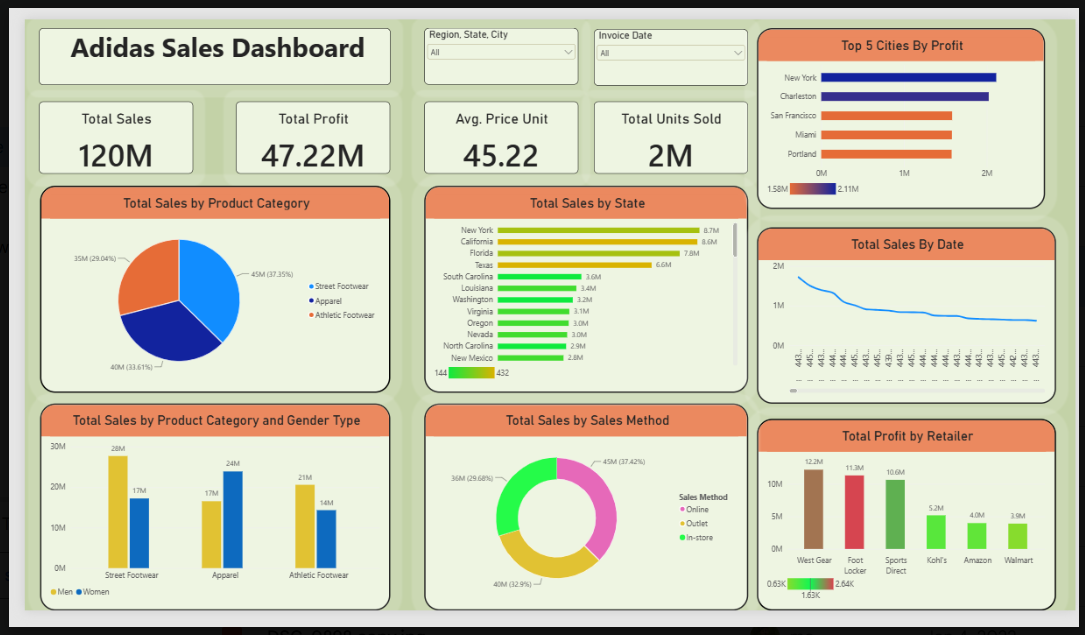

The page's visual inventory and layout, read from the dashboard file:
{"tool":"powerbi","page":{"name":"Page 1","canvas":[1920,1080],"ordinal":0},"visuals":[{"type":"textbox","box":[26,16,642,104],"z":0},{"type":"cardVisual","title":"Total Sales","fields":{"Data":["Sum(Sales_details.Total Sales)"]},"box":[26.8,150.3,282,131.7],"z":1000},{"type":"cardVisual","title":"Total Profit","fields":{"Data":["Sum(Sales_details.Operating Profit)"]},"box":[387,150.3,282,131.7],"z":2000},{"type":"cardVisual","title":"Avg. Price Unit","fields":{"Data":["Avg(Sales_details.Price per Unit)"]},"box":[730.7,150.3,282,131.7],"z":3000},{"type":"cardVisual","title":"Total Units Sold","fields":{"Data":["Sum(Sales_details.Units Sold)"]},"box":[1040,150,282,131.7],"z":4000},{"type":"slicer","fields":{"Values":["Sales_details.Region","Sales_details.State","Sales_details.City"]},"box":[730.7,16.5,282,102.9],"z":5000},{"type":"slicer","fields":{"Values":["Sales_details.Invoice Date"]},"box":[1040,17.1,282,102.9],"z":6000},{"type":"clusteredColumnChart","title":"Total Profit by Retailer","fields":{"Category":["Sales_details.Retailer"],"Y":["Sum(Sales_details.Operating Profit)"]},"box":[1338,730,546,350],"z":6001},{"type":"pieChart","title":"Total Sales by Product Category","fields":{"Y":["Sum(Sales_details.Total Sales)"],"Category":["Sales_details.Product Category"]},"box":[28,304,640,378],"z":6002},{"type":"donutChart","title":"Total Sales by Sales Method","fields":{"Y":["Sum(Sales_details.Total Sales)"],"Category":["Sales_details.Sales Method"]},"box":[730,702,592,378],"z":6003},{"type":"clusteredColumnChart","title":"Total Sales by Product Category and Gender Type","fields":{"Y":["Sum(Sales_details.Total Sales)"],"Category":["Sales_details.Product Category"],"Series":["Sales_details.Gender Type"]},"box":[28,702,640,378],"z":6004},{"type":"clusteredBarChart","title":"Total Sales by State","fields":{"Category":["Sales_details.State"],"Y":["Sum(Sales_details.Total Sales)"]},"box":[730,304,592,378],"z":6005},{"type":"lineChart","title":"Total Sales By Date","fields":{"Y":["Sum(Sales_details.Total Sales)"],"Category":["Sales_details.Invoice Date","Sales_details.Invoice Date Hierarchy.Invoice Date"]},"box":[1338,380,546,322],"z":6006},{"type":"clusteredBarChart","title":"Top 5 Cities By Profit","fields":{"Y":["Sum(Sales_details.Operating Profit)"],"Category":["Sales_details.City"]},"box":[1338,16,526,330],"z":6007}]}

Visuals, with their boxes in screenshot pixels (x1, y1, x2, y2):
textbox: bbox=[4, 6, 375, 67]
"Total Sales" cardVisual: bbox=[4, 84, 167, 160]
"Total Profit" cardVisual: bbox=[212, 84, 375, 160]
"Avg. Price Unit" cardVisual: bbox=[411, 84, 574, 160]
"Total Units Sold" cardVisual: bbox=[590, 84, 753, 160]
slicer - Sales_details.Region x Sales_details.State: bbox=[411, 7, 574, 66]
slicer - Sales_details.Invoice Date: bbox=[590, 7, 753, 67]
"Total Profit by Retailer" clusteredColumnChart: bbox=[762, 419, 1077, 621]
"Total Sales by Product Category" pieChart: bbox=[5, 173, 375, 391]
"Total Sales by Sales Method" donutChart: bbox=[410, 403, 753, 621]
"Total Sales by Product Category and Gender Type" clusteredColumnChart: bbox=[5, 403, 375, 621]
"Total Sales by State" clusteredBarChart: bbox=[410, 173, 753, 391]
"Total Sales By Date" lineChart: bbox=[762, 217, 1077, 403]
"Top 5 Cities By Profit" clusteredBarChart: bbox=[762, 6, 1066, 197]
